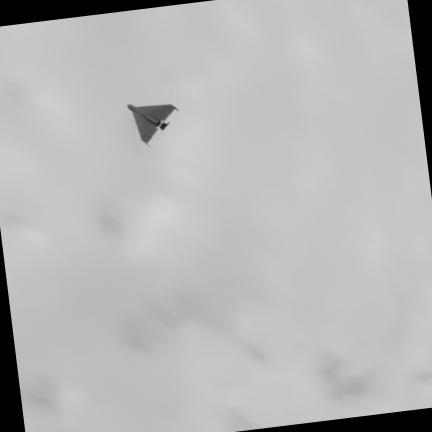Shahed: (127, 103, 176, 144)
